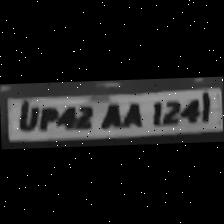1: (146, 96, 162, 126)
2: (74, 99, 94, 129), (162, 94, 178, 124)
4: (178, 94, 200, 122), (56, 99, 76, 128)
A: (94, 98, 120, 128), (120, 96, 144, 127)
P: (36, 102, 58, 130)
U: (12, 99, 40, 130)
